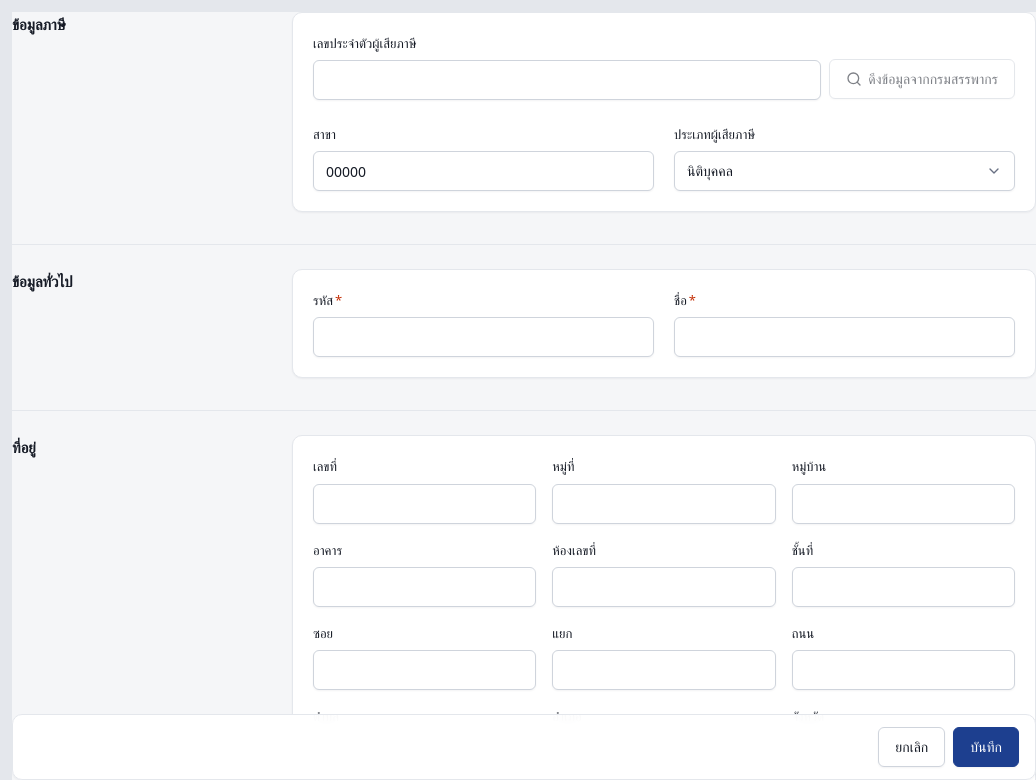
Test case: CustomerForm › กรอกเลขครบ 13 หลัก = ดึงข้อมูลจากกรมสรรพากรเอง แล้วส่งที่อยู่แยกช่อง
The image size is (1036, 780).
Later steps or results of the test are not shown.
Type "0745569002816" into the field labelled "เลขประจำตัวผู้เสียภาษี" at [567, 80], box [314, 61, 820, 99]
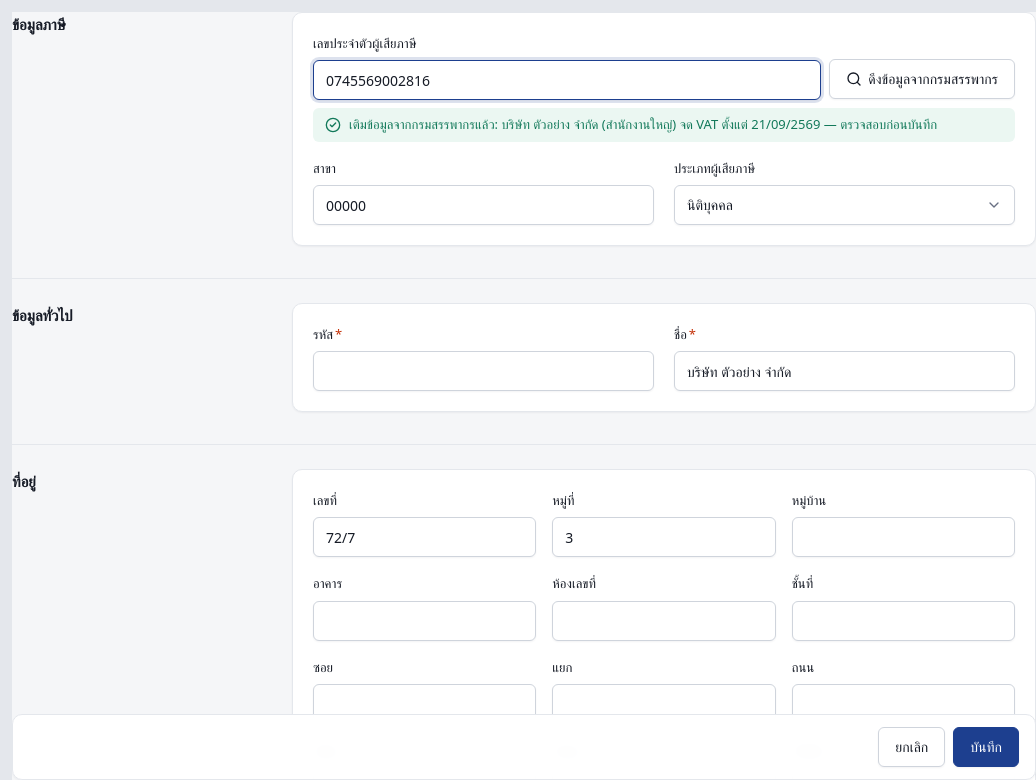
expect the text "เติมข้อมูลจากกรมสรรพากรแล้ว" is shown: met, box [349, 115, 937, 133]
expect the field labelled "ชื่อ" holds "บริษัท ตัวอย่าง จำกัด": met, box [675, 352, 1014, 390]
